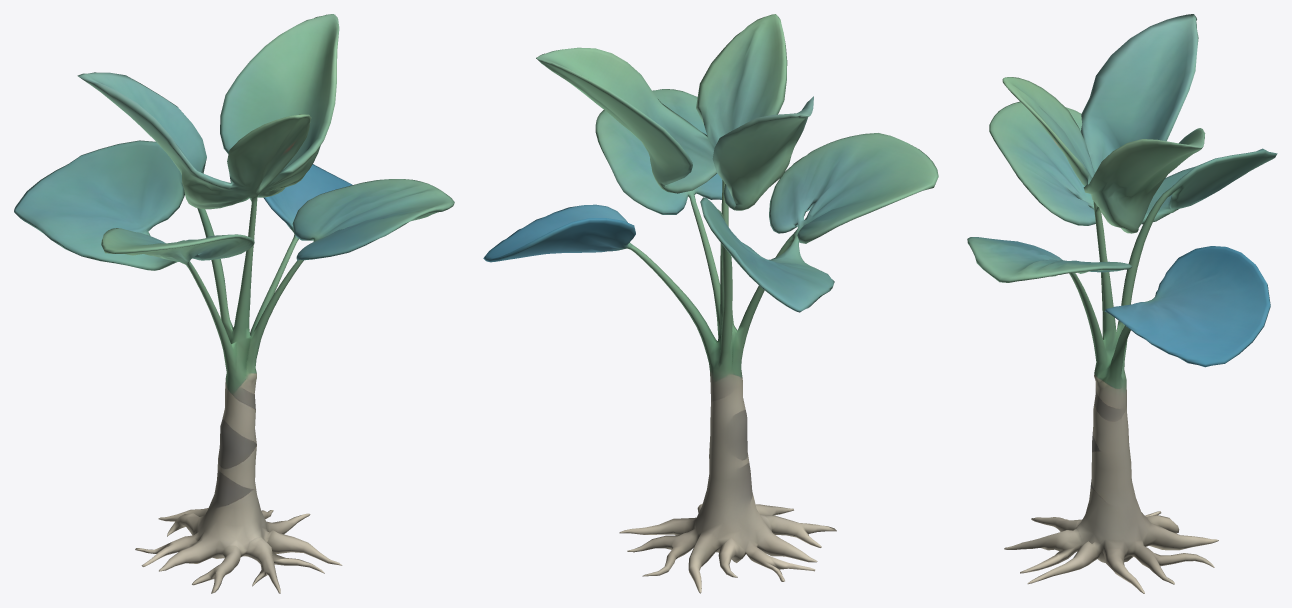
The model's file is fan_palm.glb.
3 views of the same model, side by side, from view 1: azimuth 30°, elevation 25°; view 2: azimuth 150°, elevation 25°; view 3: azimuth 270°, elevation 25° (orthographic). The views are drawn at different scales.
Visible parts, largest first — view 1: model; view 2: model; view 3: model.
Boxes of the visible parts, x1,y1,x2,y2 form: model: [14, 14, 454, 593]; model: [483, 14, 938, 593]; model: [967, 14, 1277, 593].
Size of the model in its own units: 1.45 by 1.89 by 1.1.
1 material, 1 textured.
